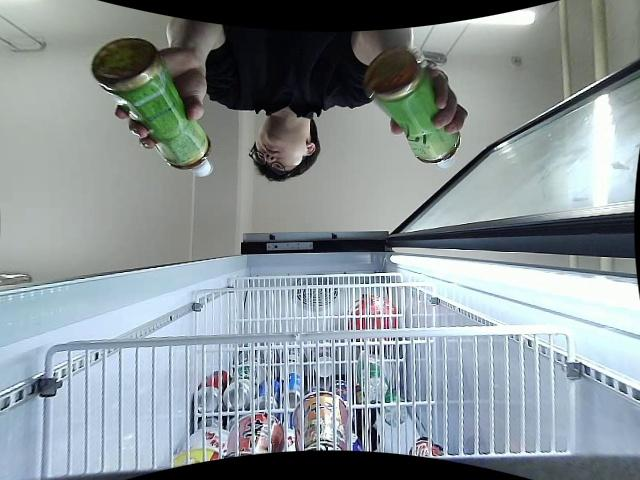00_hand: (115, 49, 208, 150), (389, 67, 468, 135)
19_17cha: (91, 38, 214, 178), (364, 48, 461, 171)
